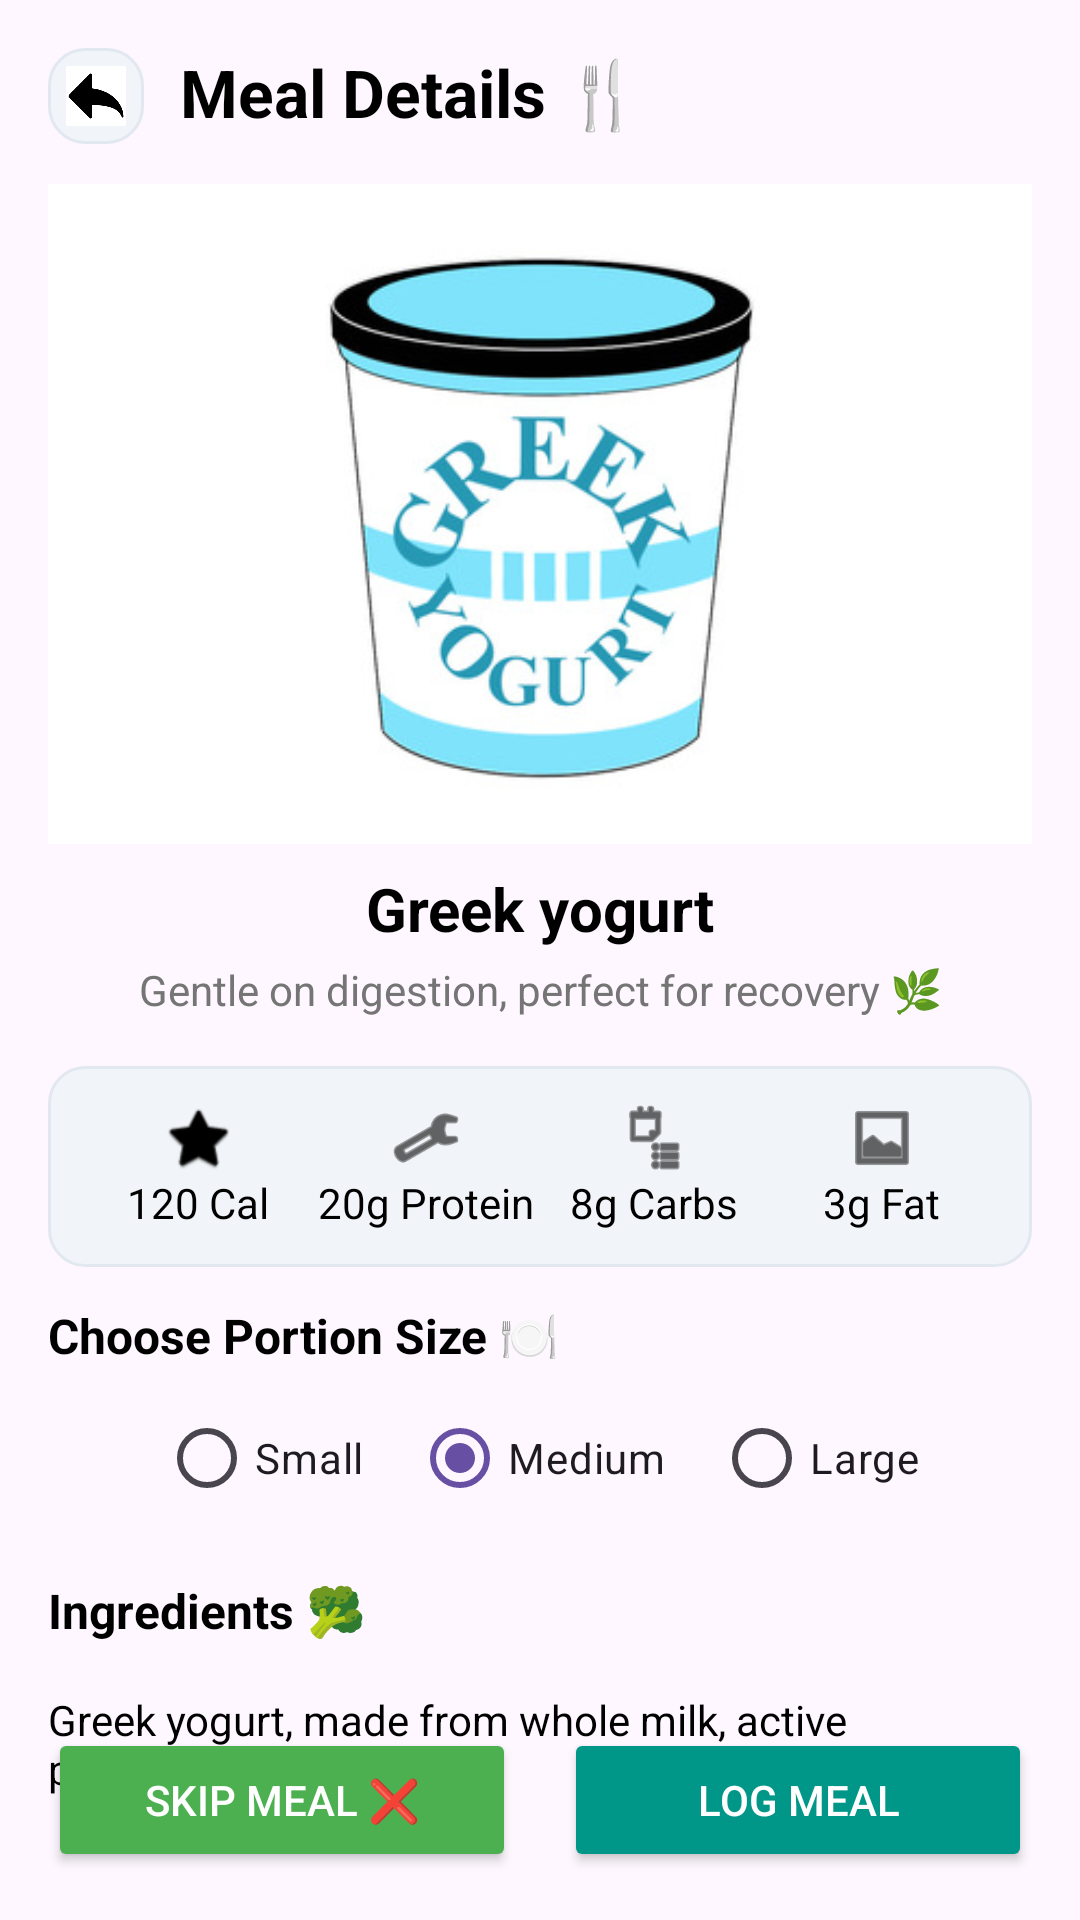

Named icons in this screenshot (1080 × 1920) and their centers, (x,y):
Back: (96,96)
